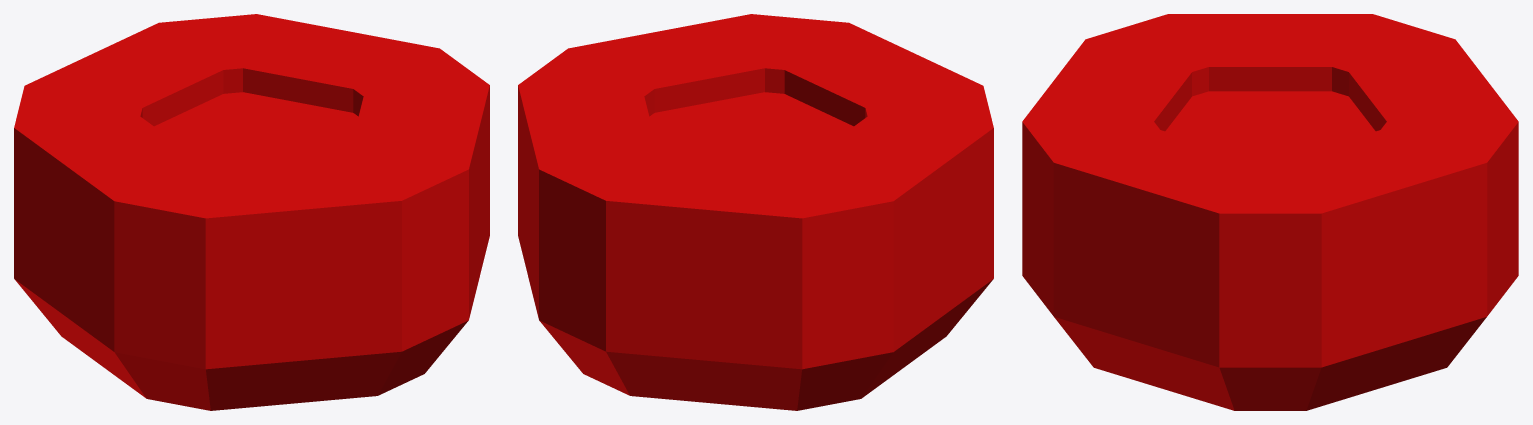
Rendered from Mine State 1.FBX.
The picture shows the model from 3 angles, left to right: view 1: azimuth 30°, elevation 25°; view 2: azimuth 150°, elevation 25°; view 3: azimuth 270°, elevation 25°; orthographic projection. The views are drawn at different scales.
Parts seen in each view (by area): view 1: Mine State 1; view 2: Mine State 1; view 3: Mine State 1.
Part boxes in pixels (<box>): Mine State 1: <box>14,14,489,410</box>; Mine State 1: <box>518,14,993,410</box>; Mine State 1: <box>1022,14,1518,410</box>.
Bounding box in the file's own units: 6.48 × 3.29 × 6.81.
